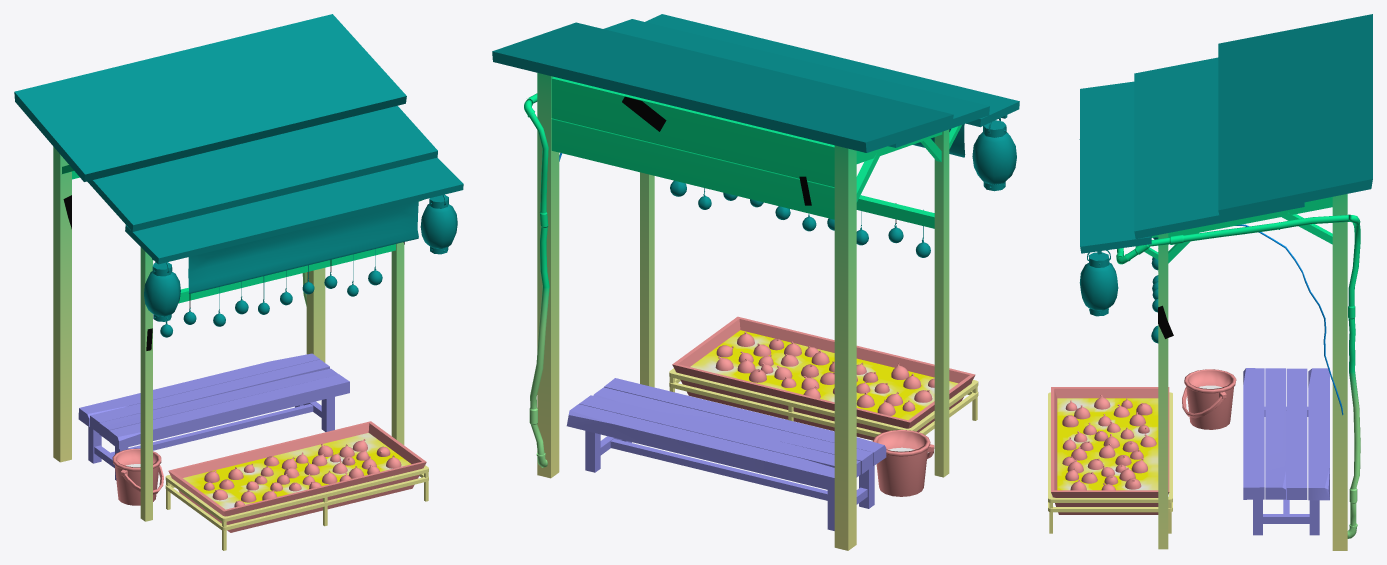
Rendered from SM_ENV_LKNVLD_Stall_K.gltf.
The picture shows the model from 3 angles, left to right: view 1: azimuth 30°, elevation 25°; view 2: azimuth 150°, elevation 25°; view 3: azimuth 270°, elevation 25°; orthographic projection. The views are drawn at different scales.
Parts seen in each view (by area): view 1: SM_ENV_LKNVLD_Stall_K; view 2: SM_ENV_LKNVLD_Stall_K; view 3: SM_ENV_LKNVLD_Stall_K.
Part boxes in pixels (x1,y1,x2,y2): SM_ENV_LKNVLD_Stall_K: [14, 14, 463, 550]; SM_ENV_LKNVLD_Stall_K: [492, 14, 1019, 550]; SM_ENV_LKNVLD_Stall_K: [1048, 14, 1372, 550].
Bounding box in the file's own units: 3.02 × 3.25 × 2.48.
